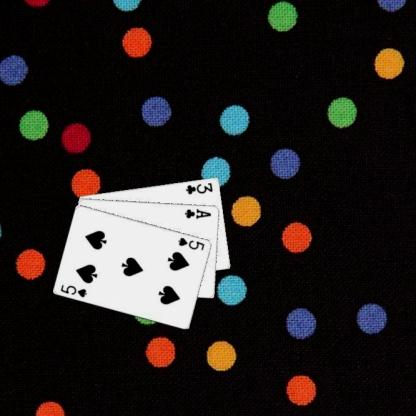3C: (183, 180, 214, 195)
5S: (176, 234, 206, 251), (58, 282, 88, 298)
AC: (182, 205, 212, 220)
